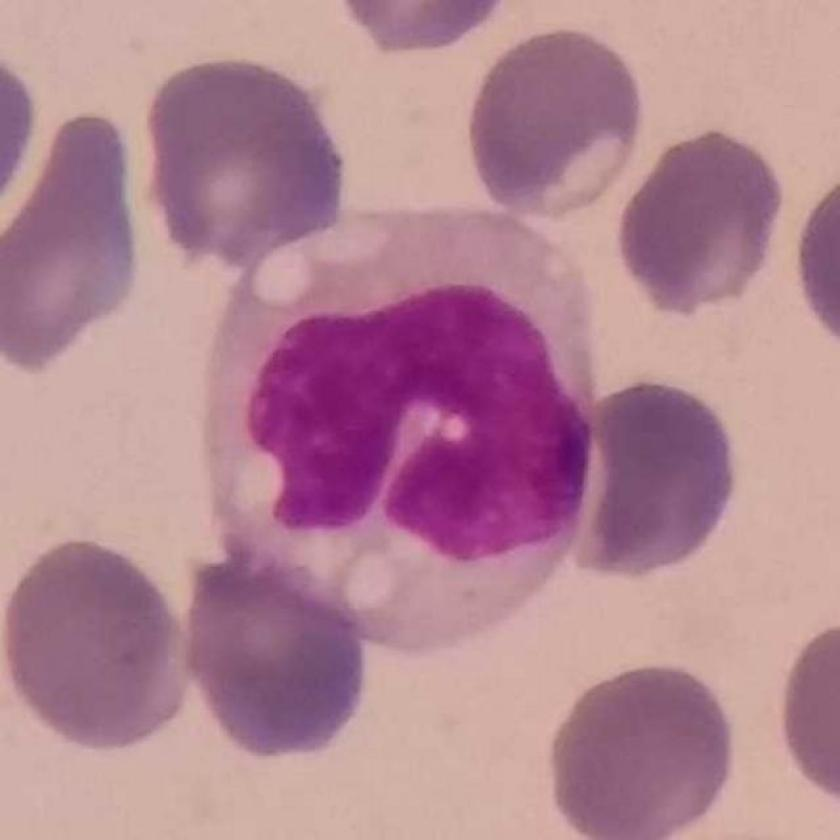monocyte: (202, 191, 607, 651)
